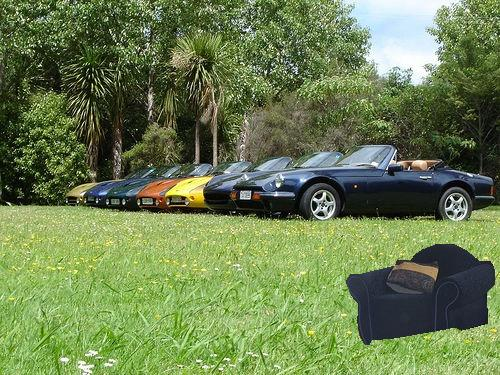tampered: (347, 245, 495, 345)
